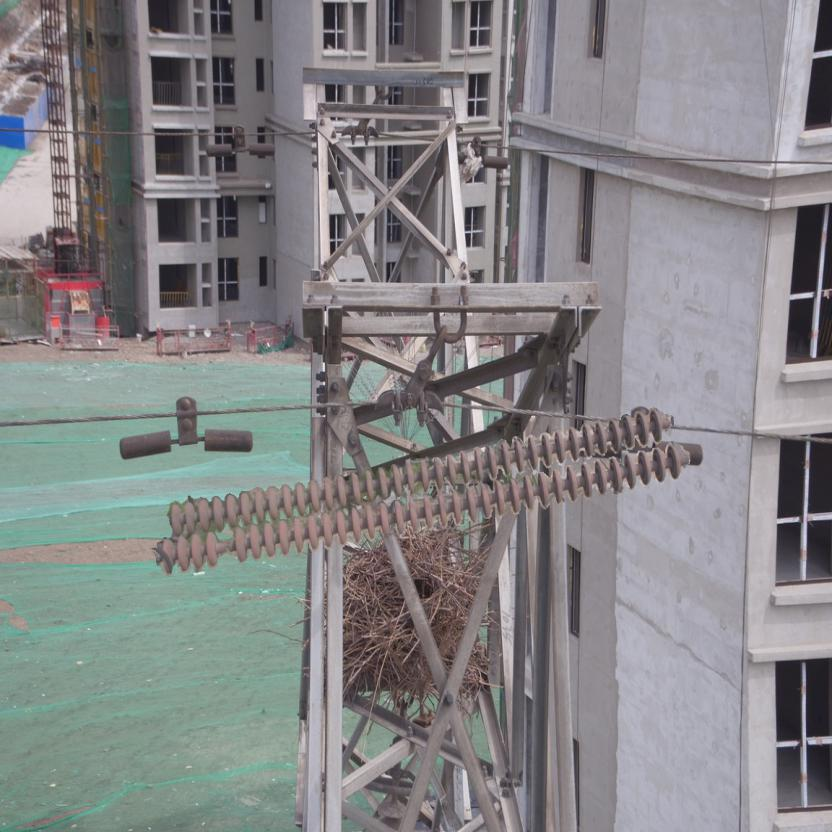defect: (201, 525, 248, 568)
